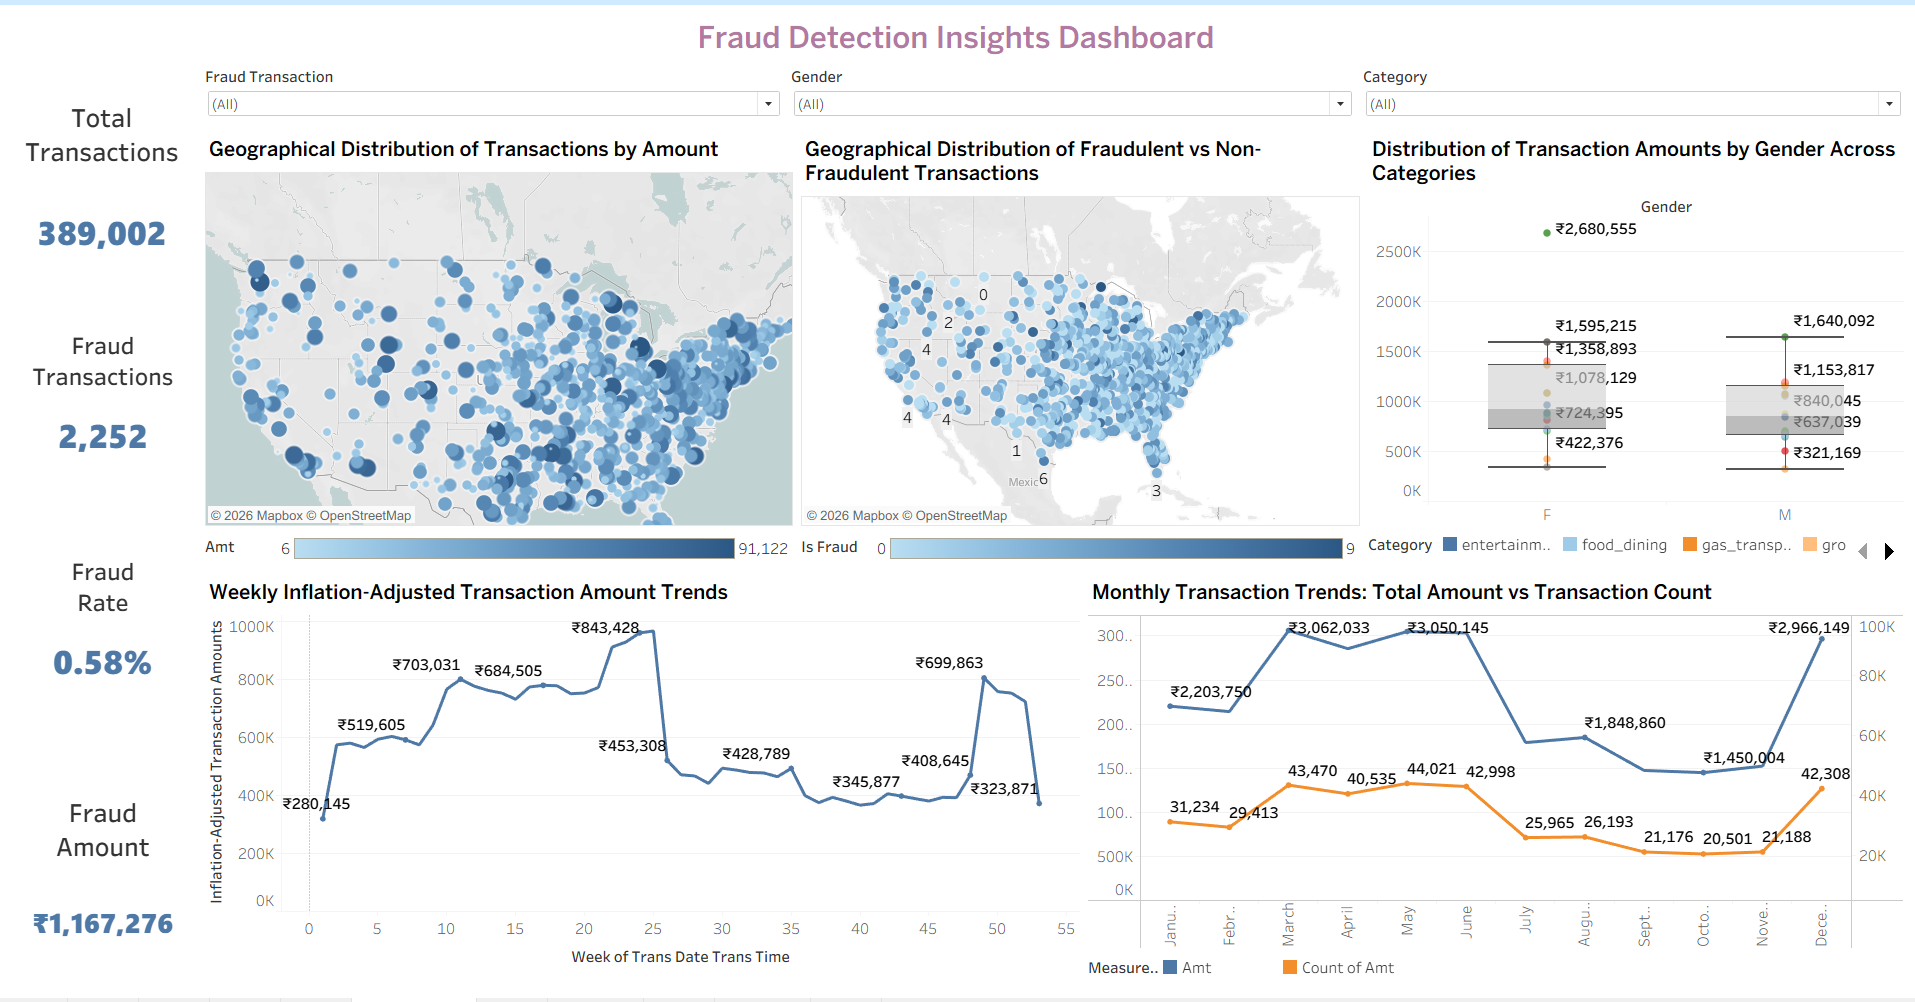

What the dashboard file says about the page in this screenshot:
{"tool":"tableau","page":{"name":"Dashboard 1","canvas":[1000,1000],"units":"permille","ordinal":0},"visuals":[{"type":"title","box":[4.8,10,990.5,61.2]},{"type":"worksheet","title":"Sheet 7","mark":"Automatic","box":[4.8,71.2,102.5,229.7]},{"type":"filter","title":"Sheet 4","param":"[federated.0z986cu041fl781e0kt6c0t2e0yx].[none:Calculation_1223290293447335936:n","box":[107.2,71.2,304.8,66.4]},{"type":"filter","title":"Sheet 5","param":"[federated.0z986cu041fl781e0kt6c0t2e0yx].[none:gender:nk]","box":[412,71.2,297.6,66.4]},{"type":"filter","title":"Sheet 5","param":"[federated.0z986cu041fl781e0kt6c0t2e0yx].[none:category:nk]","box":[709.6,71.2,285.7,66.4]},{"type":"worksheet","title":"Sheet 3","mark":"Automatic","rows":["lat"],"cols":["long"],"box":[107.2,137.5,310.2,397]},{"type":"worksheet","title":"Sheet 4","mark":"Automatic","rows":["lat"],"cols":["long"],"box":[417.5,137.5,294.8,396.7]},{"type":"worksheet","title":"Sheet 2","mark":"Circle","rows":["amt"],"cols":["gender"],"box":[712.2,137.5,283,397]},{"type":"worksheet","title":"Sheet 8","mark":"Automatic","box":[4.8,300.9,102.5,198.5]},{"type":"worksheet","title":"Sheet 8 (2)","mark":"Automatic","box":[4.8,499.4,102.5,249.7]},{"type":"legend","title":"Sheet 4","param":"[federated.0z986cu041fl781e0kt6c0t2e0yx].[sum:is_fraud:qk]","box":[417.5,534.2,294.8,41.9]},{"type":"legend","title":"Sheet 3","param":"[federated.0z986cu041fl781e0kt6c0t2e0yx].[sum:amt:qk]","box":[107.2,534.6,310.2,41.5]},{"type":"legend","title":"Sheet 2","param":"[federated.0z986cu041fl781e0kt6c0t2e0yx].[none:category:nk]","box":[712.2,534.6,283,41.5]},{"type":"worksheet","title":"Sheet 6","mark":"Automatic","rows":["Calculation_1223290293464330241"],"cols":["trans_date_trans_time"],"box":[107.2,576.1,459.6,413.9]},{"type":"worksheet","title":"Sheet 5","mark":"Automatic","rows":["amt","amt"],"cols":["trans_date_trans_time"],"box":[566.8,576.1,428.4,376.9]},{"type":"worksheet","title":"Sheet 7 (2)","mark":"Automatic","box":[4.8,749,102.5,241]},{"type":"legend","title":"Sheet 5","param":"[federated.0z986cu041fl781e0kt6c0t2e0yx].[:Measure Names]","box":[566.8,953,428.4,37.1]}]}

Visuals, with their boxes on the dashboard's canvas, which has no fixed pixel size, in thousandths of its width and height (x1, y1, x2, y2). These are canvas units, not pixel positions in the 1915x1002 screenshot, which may show the page scaled, cropped or inside an application window:
title: left=5, top=10, right=995, bottom=71
"Sheet 7" worksheet: left=5, top=71, right=107, bottom=301
"Sheet 4" filter: left=107, top=71, right=412, bottom=138
"Sheet 5" filter: left=412, top=71, right=710, bottom=138
"Sheet 5" filter: left=710, top=71, right=995, bottom=138
"Sheet 3" worksheet: left=107, top=138, right=417, bottom=534
"Sheet 4" worksheet: left=418, top=138, right=712, bottom=534
"Sheet 2" worksheet (Circle marks): left=712, top=138, right=995, bottom=534
"Sheet 8" worksheet: left=5, top=301, right=107, bottom=499
"Sheet 8 (2)" worksheet: left=5, top=499, right=107, bottom=749
"Sheet 4" legend: left=418, top=534, right=712, bottom=576
"Sheet 3" legend: left=107, top=535, right=417, bottom=576
"Sheet 2" legend: left=712, top=535, right=995, bottom=576
"Sheet 6" worksheet: left=107, top=576, right=567, bottom=990
"Sheet 5" worksheet: left=567, top=576, right=995, bottom=953
"Sheet 7 (2)" worksheet: left=5, top=749, right=107, bottom=990
"Sheet 5" legend: left=567, top=953, right=995, bottom=990
